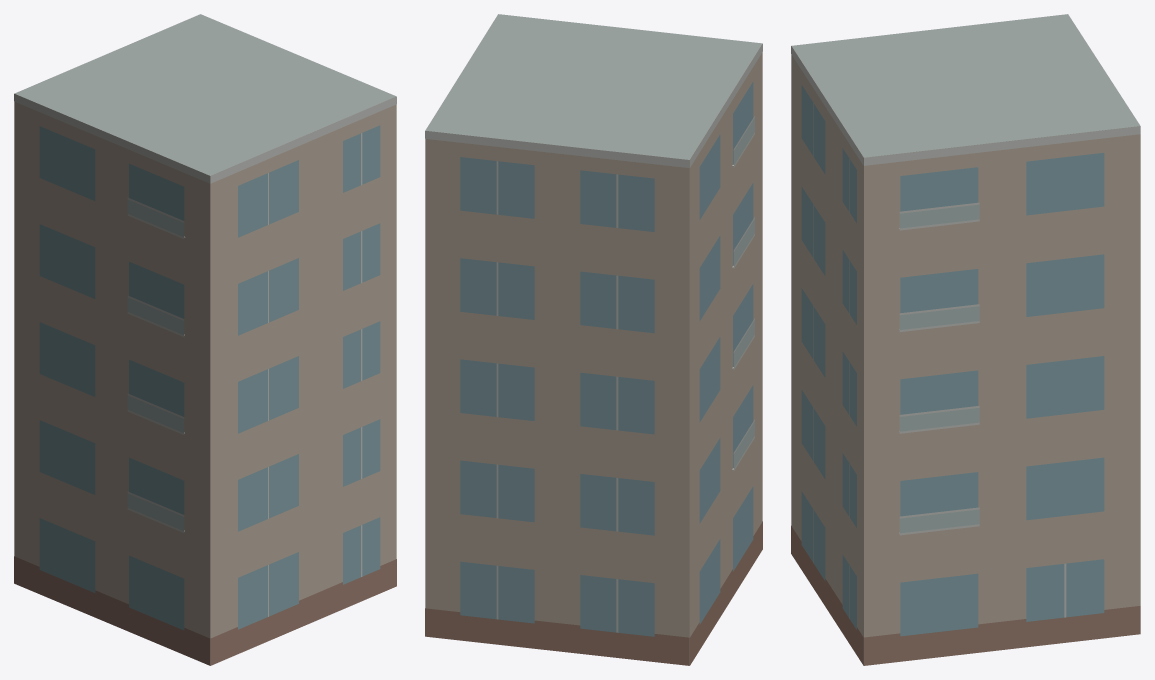
File: survey-upis-32606775.glb
The picture shows the model from 3 angles, left to right: view 1: azimuth 30°, elevation 25°; view 2: azimuth 150°, elevation 25°; view 3: azimuth 270°, elevation 25°; orthographic projection. The views are drawn at different scales.
Visible parts, largest first — view 1: survey-upis-32606775.tmp; view 2: survey-upis-32606775.tmp; view 3: survey-upis-32606775.tmp.
Boxes of the visible parts, left/top/right/bottom form: survey-upis-32606775.tmp: left=14, top=14, right=396, bottom=665; survey-upis-32606775.tmp: left=425, top=14, right=762, bottom=665; survey-upis-32606775.tmp: left=791, top=14, right=1140, bottom=665.
Bounding box in the file's own units: 9.26 × 15.25 × 9.51.
